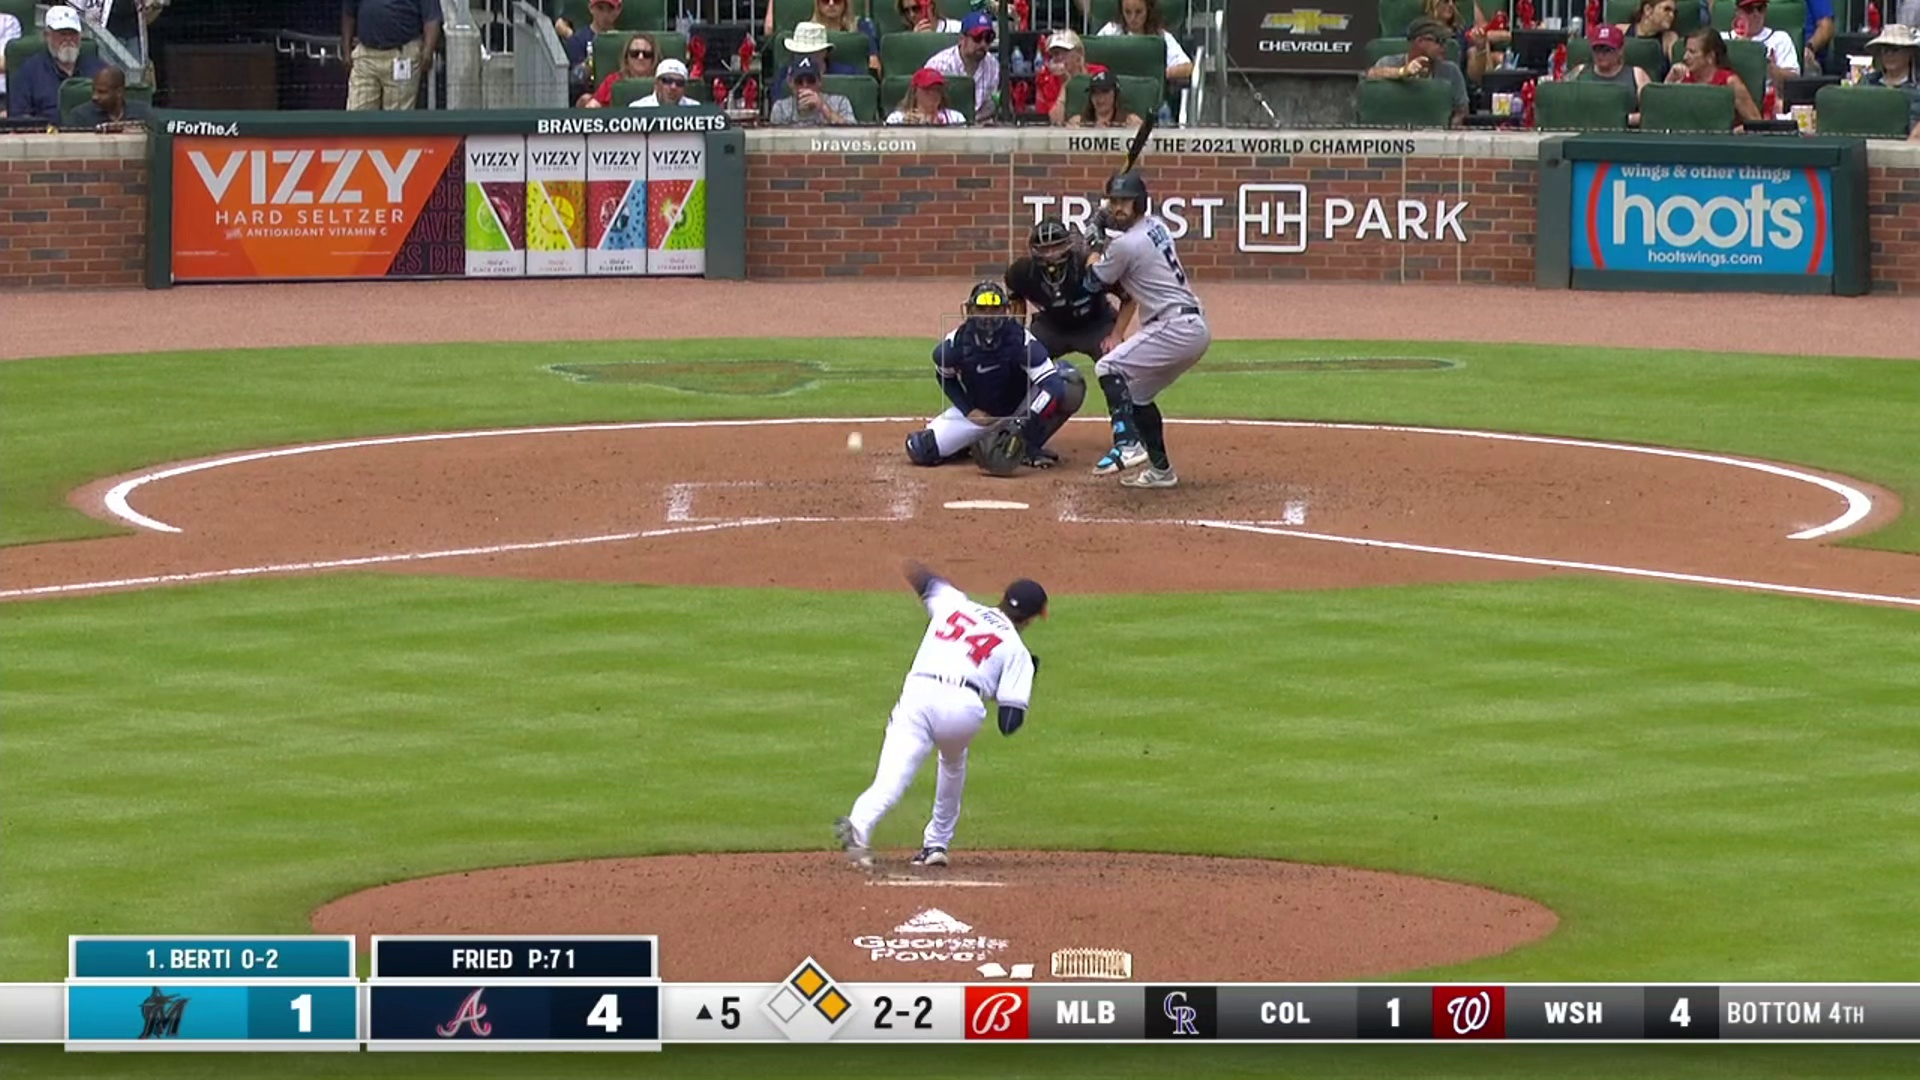baseball: (845, 431, 862, 454)
